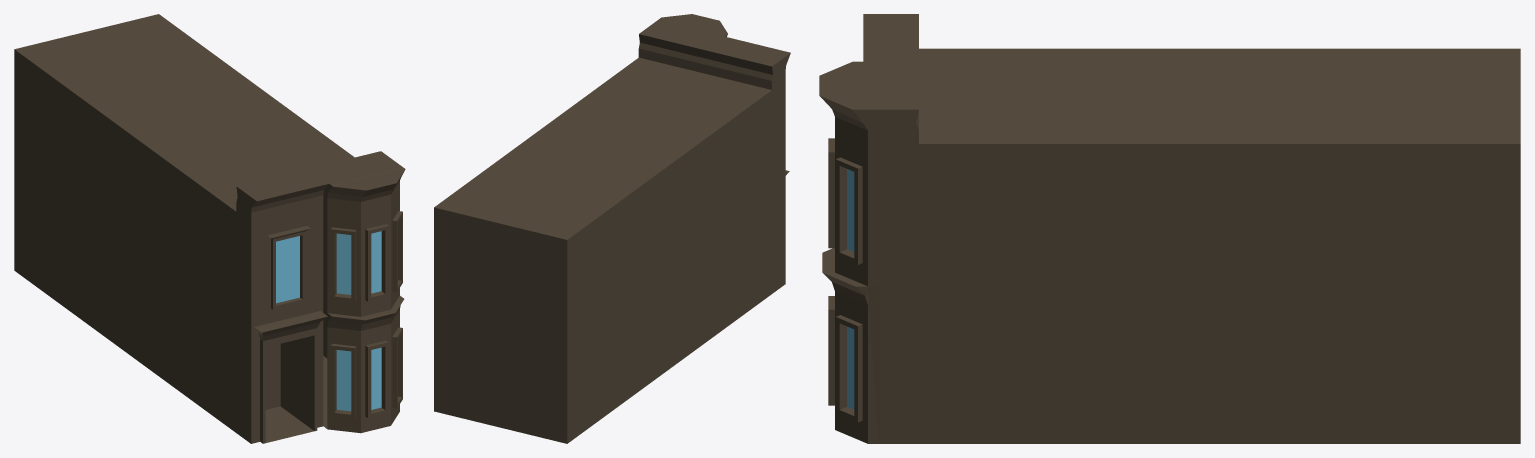
The model's file is SF_House_Closed.fbx.
3 renders of one model, left to right at view 1: azimuth 30°, elevation 25°; view 2: azimuth 150°, elevation 25°; view 3: azimuth 270°, elevation 25°, orthographic. The views are drawn at different scales.
Visible parts, largest first — view 1: Cube.001; view 2: Cube.001; view 3: Cube.001.
Boxes of the visible parts, x1,y1,x2,y2 form: Cube.001: (14,14,405,443); Cube.001: (434,14,790,443); Cube.001: (819,14,1520,443).
Size of the model in its own units: 297 by 484 by 920.
